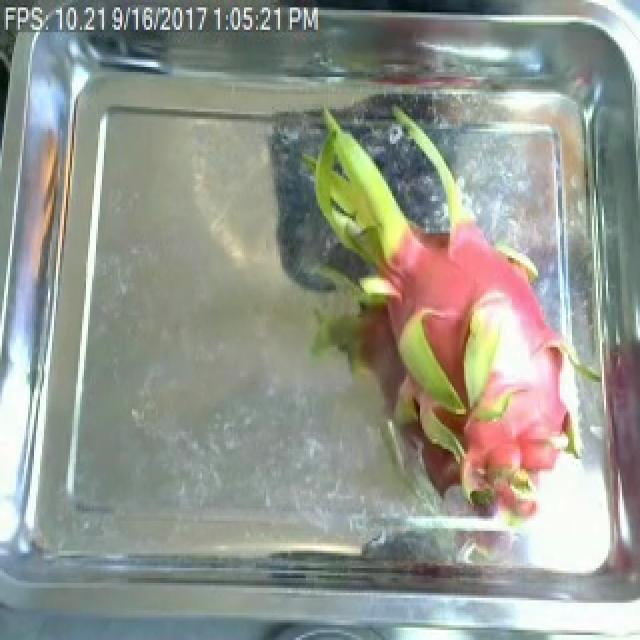fruit: (280, 112, 614, 538)
